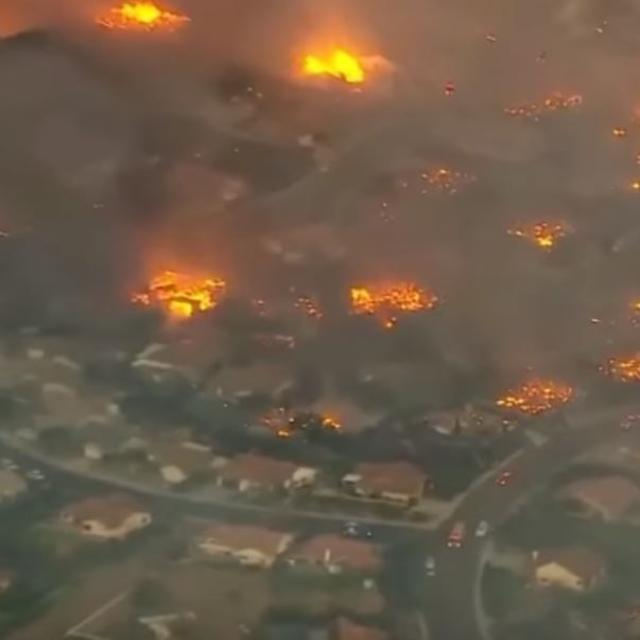Fire: (11, 15, 632, 461), (119, 234, 224, 322), (335, 286, 436, 330), (302, 49, 377, 101), (133, 8, 196, 48), (524, 381, 564, 427)
